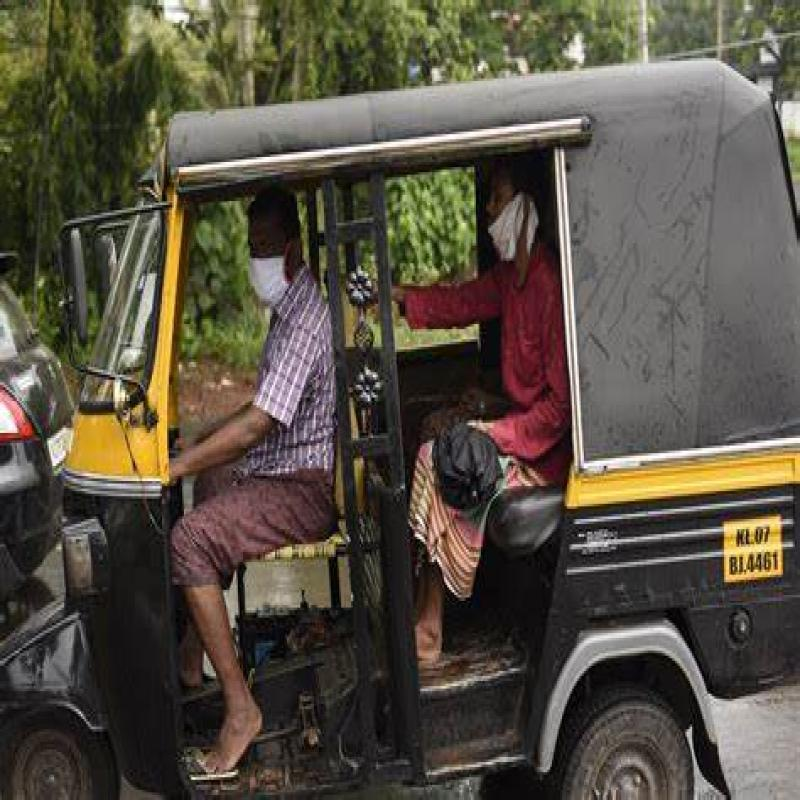auto: (0, 58, 800, 800)
